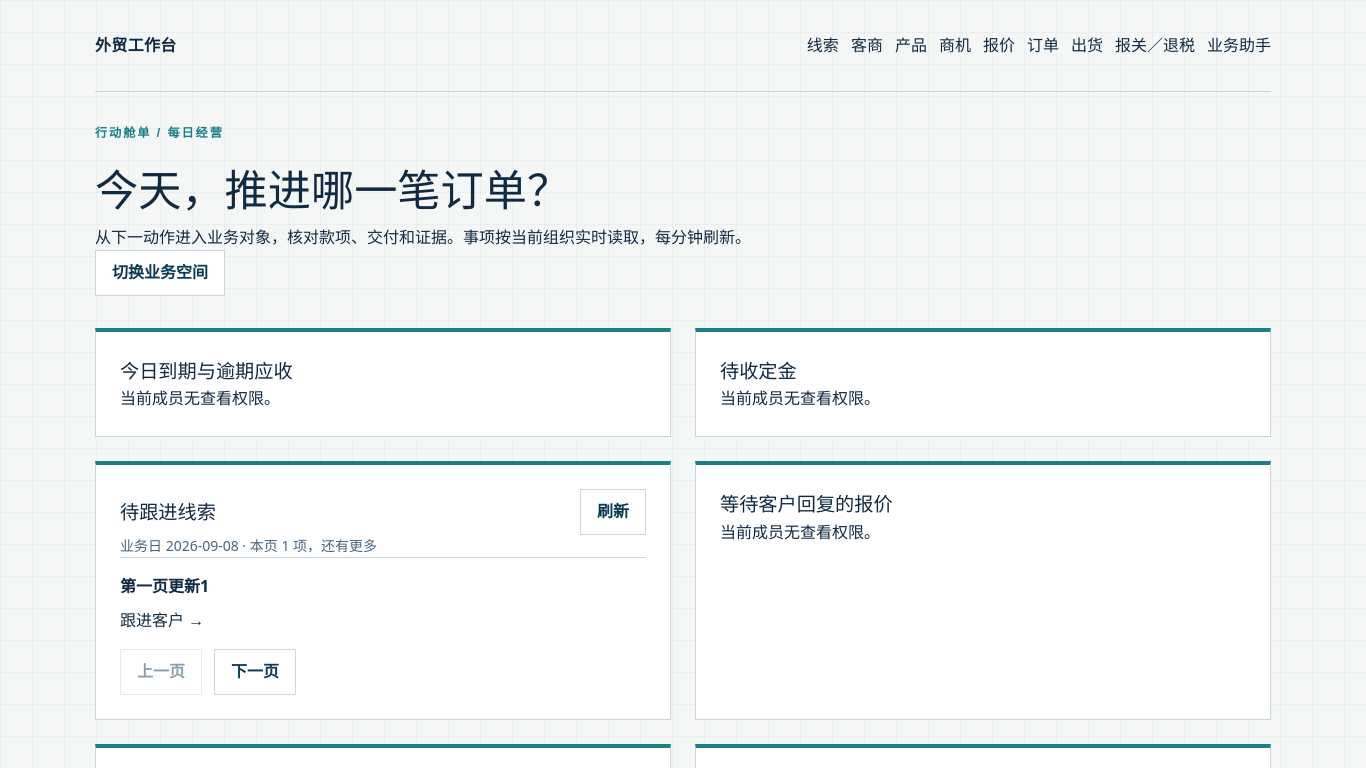
Test: manual refresh returns to fresh first-page facts after pagination
The image size is (1366, 768).
Expected: the text "第一页更新1" is shown, x1=120 y1=575 x2=209 y2=597
Click the button "下一页".
click(255, 672)  # box x1=214 y1=649 x2=296 y2=695
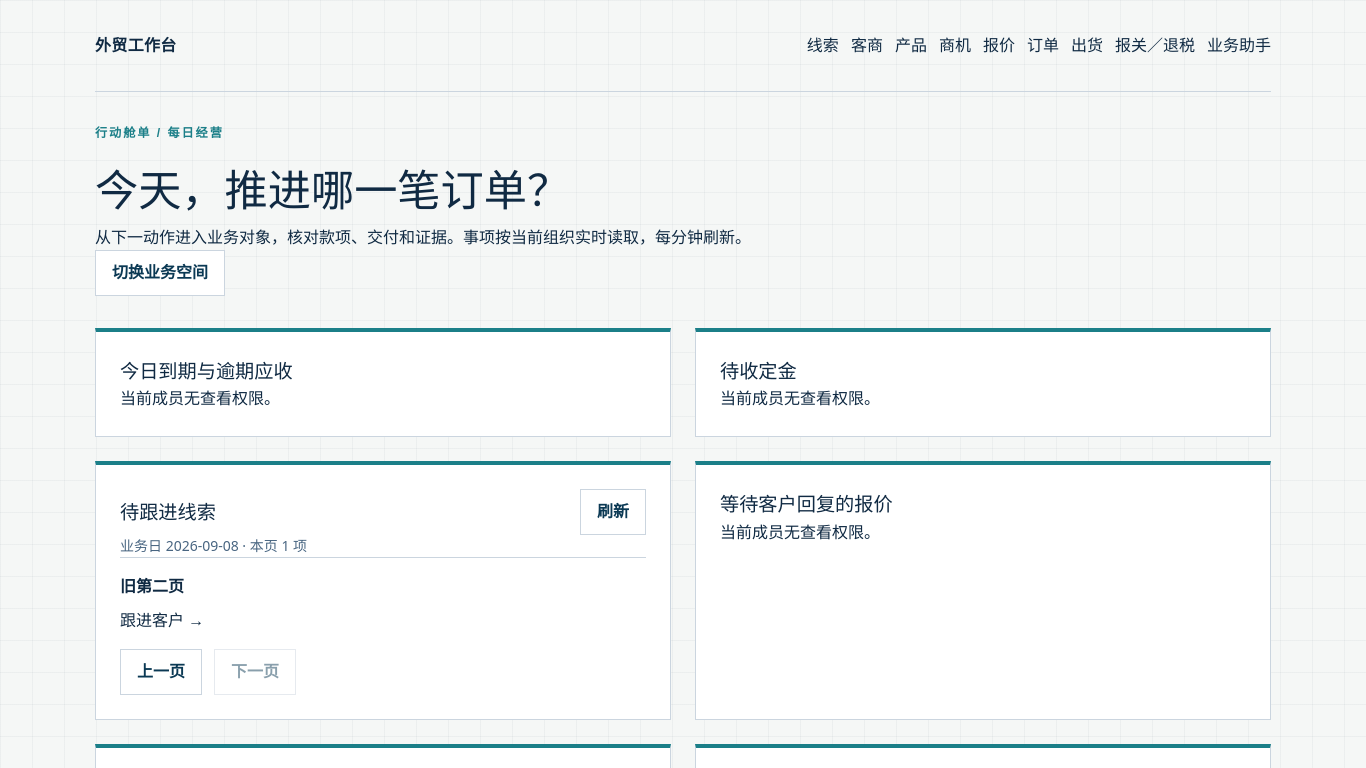
Now the text "旧第二页" is shown, box x1=120 y1=575 x2=184 y2=597
Click the button "刷新".
click(613, 512)  # box x1=580 y1=489 x2=646 y2=535
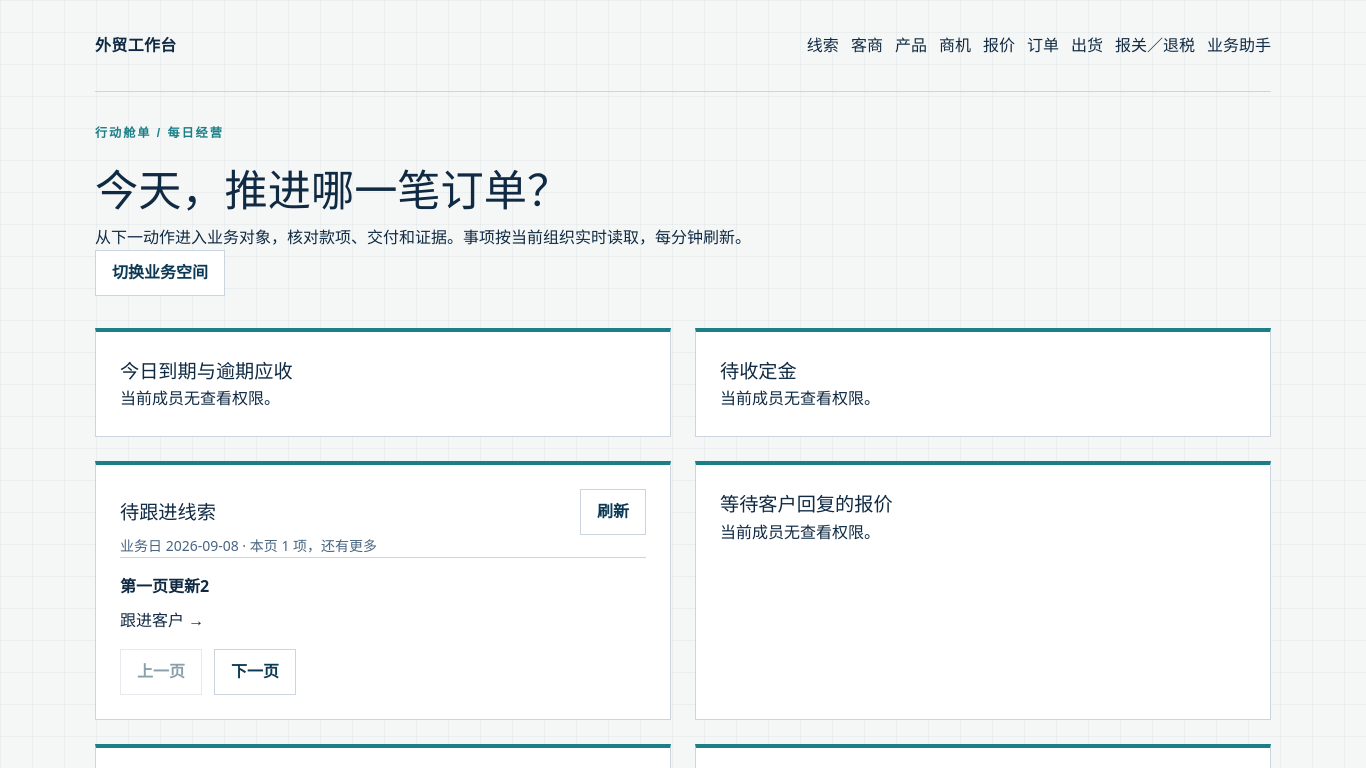
Now the text "第一页更新2" is shown, box x1=120 y1=575 x2=209 y2=597
Now the link "旧第二页" is gone
Now the button "上一页" is disabled, box x1=120 y1=649 x2=202 y2=695
Click the button "刷新".
click(613, 512)  # box x1=580 y1=489 x2=646 y2=535
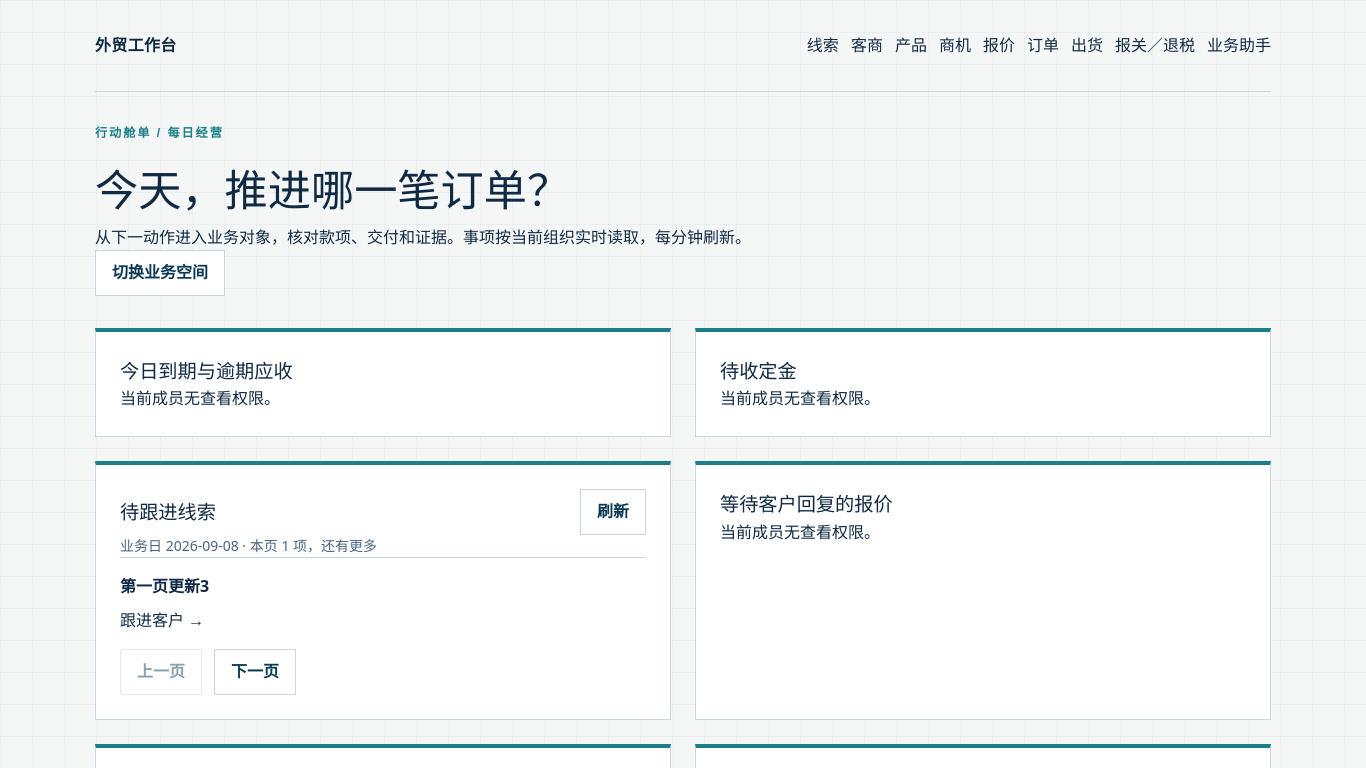
Now the text "第一页更新3" is shown, box x1=120 y1=575 x2=209 y2=597
